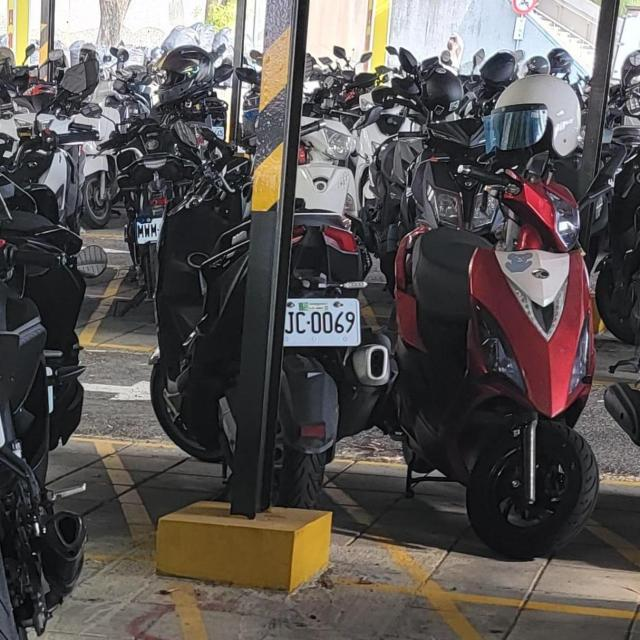W: (282, 294, 363, 350)
